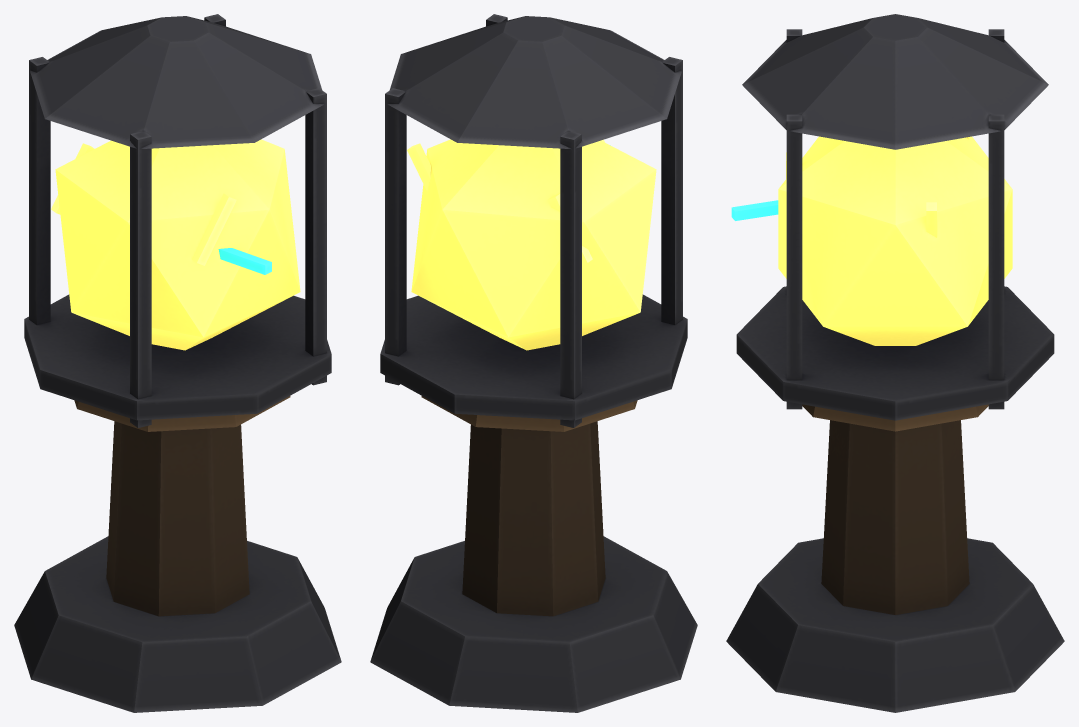
Rendered from obj_sphere_storm.glb.
3 views of the same model, side by side, from view 1: azimuth 30°, elevation 25°; view 2: azimuth 150°, elevation 25°; view 3: azimuth 270°, elevation 25° (orthographic).
Parts seen in each view (by area): view 1: obj_sphere_storm; view 2: obj_sphere_storm; view 3: obj_sphere_storm.
Part boxes in pixels (bbox=[...]): obj_sphere_storm: bbox=[14, 14, 341, 712]; obj_sphere_storm: bbox=[370, 14, 697, 712]; obj_sphere_storm: bbox=[726, 14, 1064, 712].
Bounding box in the file's own units: 0.64 × 1.28 × 0.64.
1 material, 1 textured.
